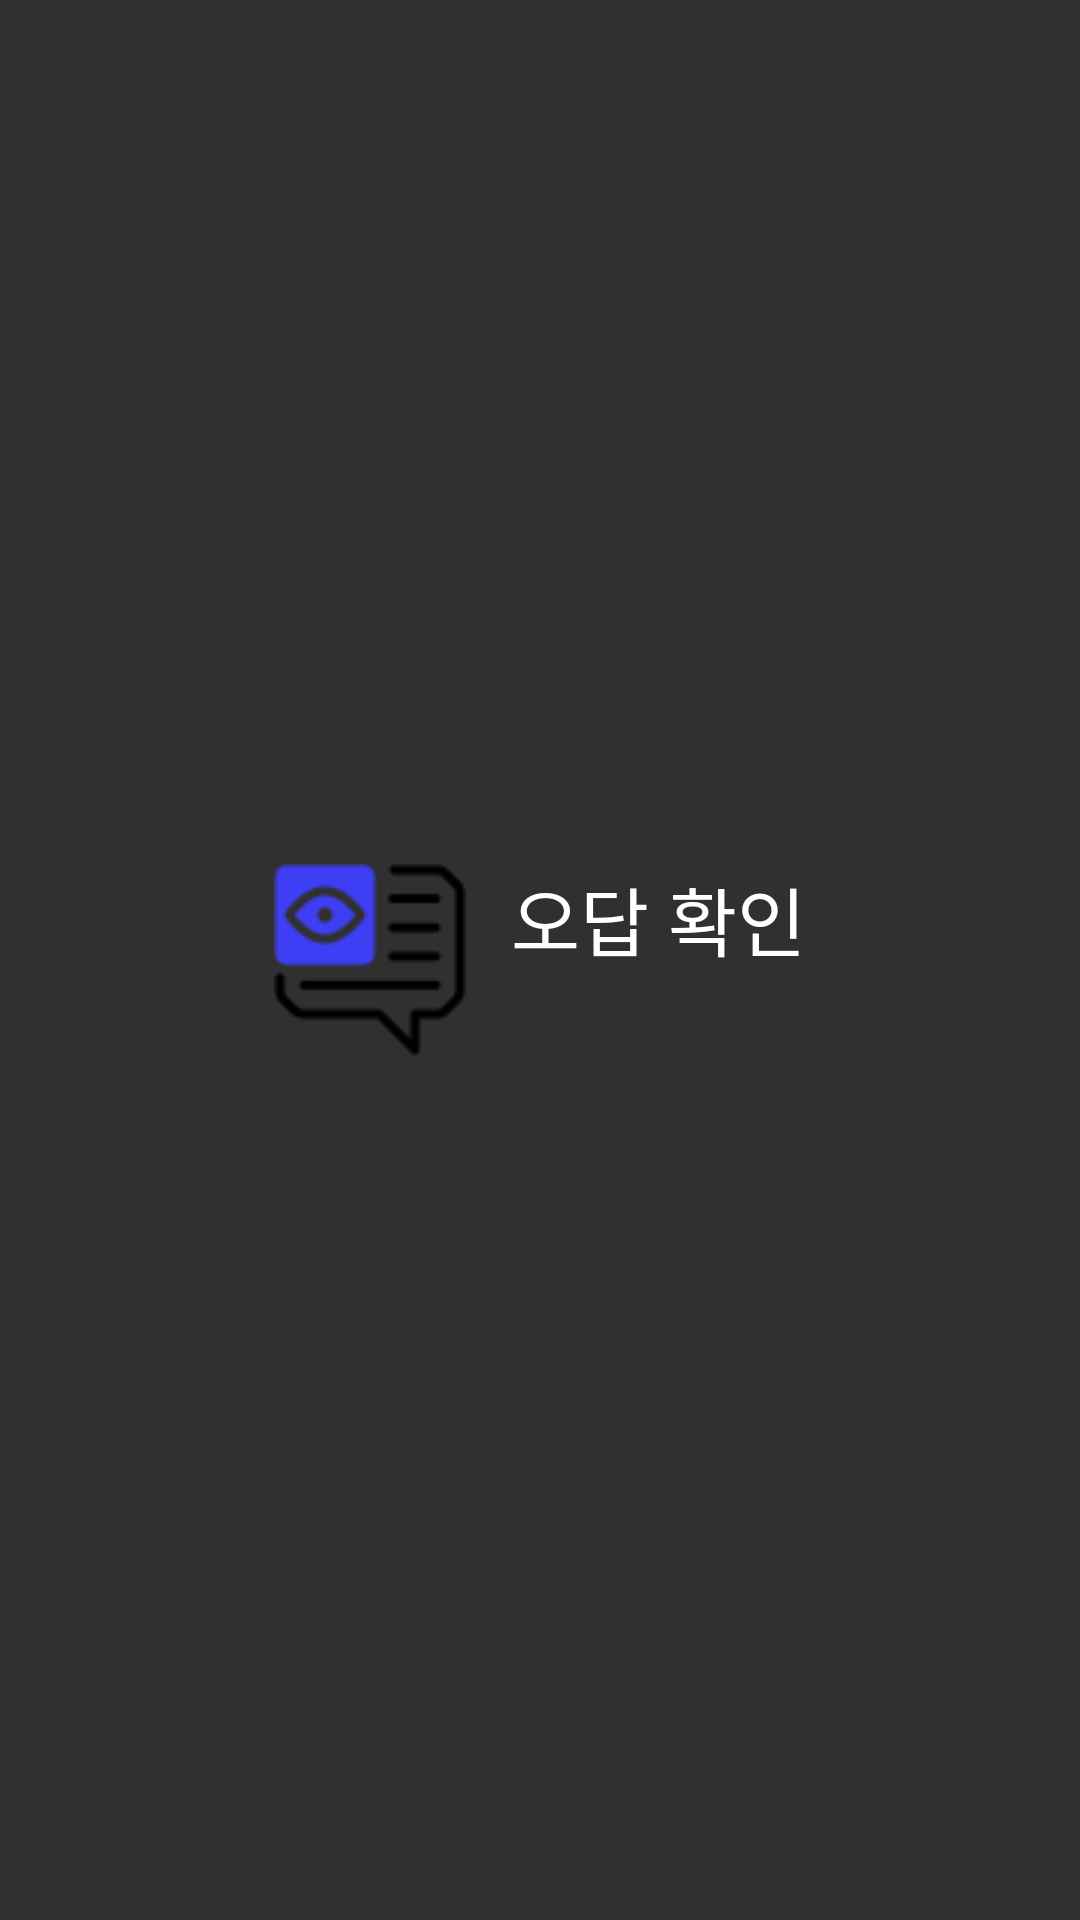

Screen size 1080×1920. Icon name, then its center in pixels as point (x, y):
review: point (369, 959)
